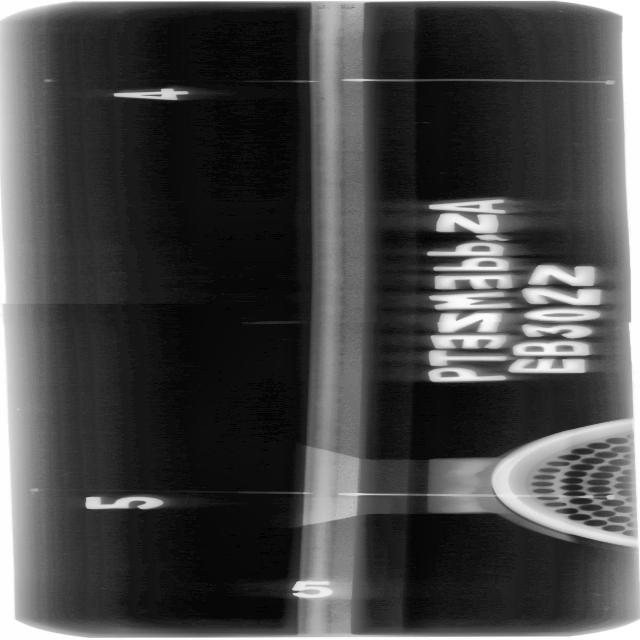porosity: (317, 97, 335, 101), (315, 513, 325, 516)
